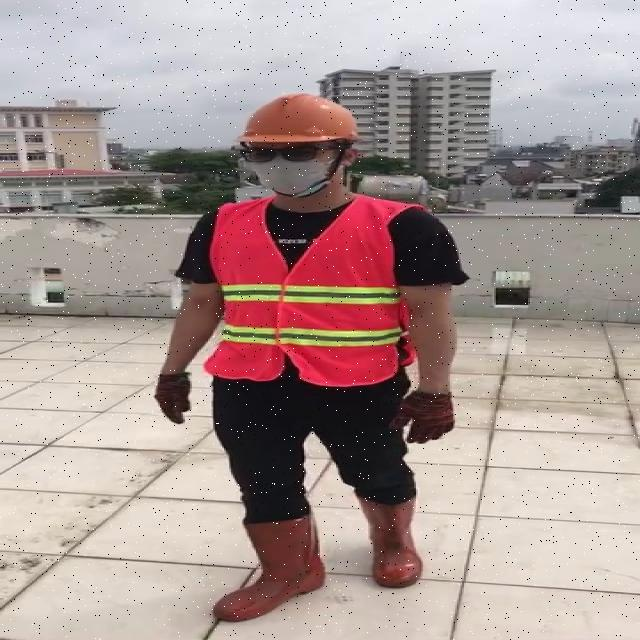Hard_hat: (231, 92, 366, 160)
Vest: (214, 194, 403, 389)
